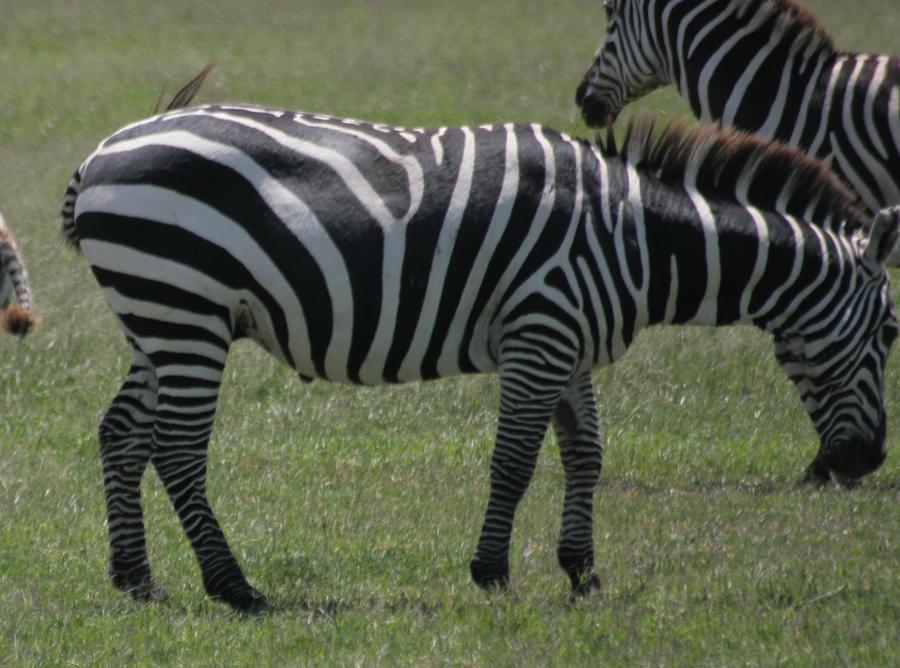zebra_plains: (102, 98, 607, 387)
